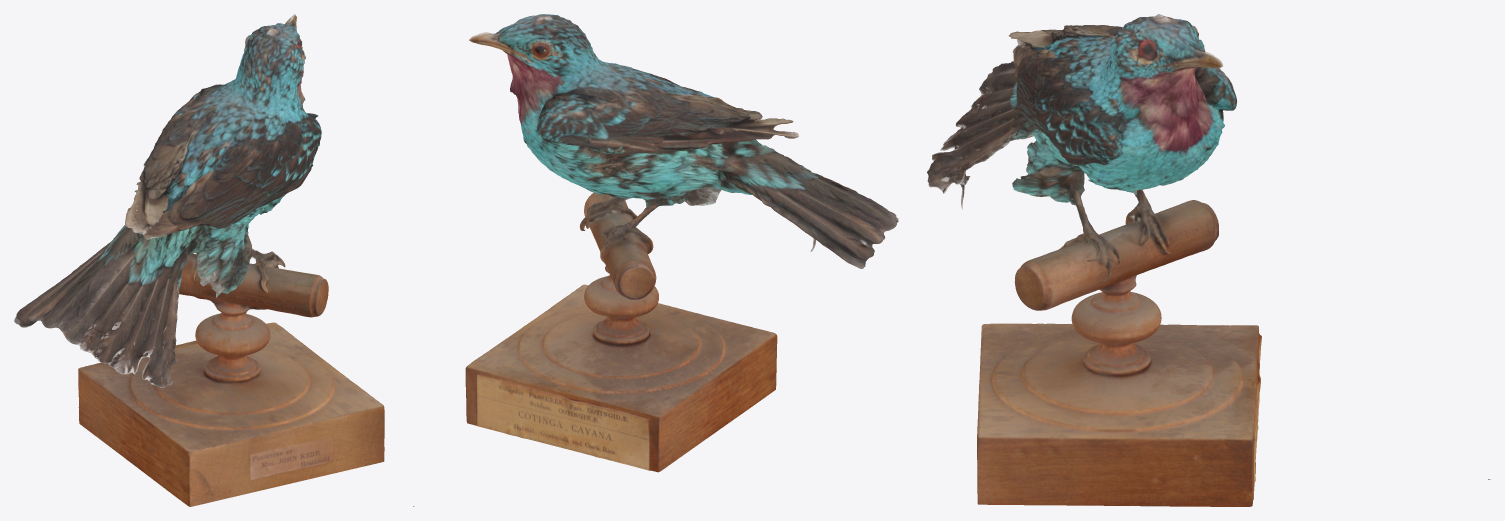
The model's file is nm__cotinga.glb.
3 renders of one model, left to right at view 1: azimuth 30°, elevation 25°; view 2: azimuth 150°, elevation 25°; view 3: azimuth 270°, elevation 25°, orthographic. The views are drawn at different scales.
Visible parts, largest first — view 1: Object_4, Object_3, Object_5; view 2: Object_3, Object_4, Object_5; view 3: Object_3, Object_4, Object_5.
Part boxes in pixels (x1,y1,x2,y2): Object_4: [54, 14, 377, 498]; Object_3: [16, 14, 384, 506]; Object_5: [14, 20, 384, 495]; Object_3: [413, 16, 898, 506]; Object_4: [471, 14, 896, 468]; Object_5: [465, 15, 895, 462]; Object_3: [932, 14, 1490, 506]; Object_4: [927, 19, 1261, 506]; Object_5: [927, 16, 1256, 504].
Size of the model in its own units: 4.11 by 4.46 by 4.89.
1 material, 1 textured.
